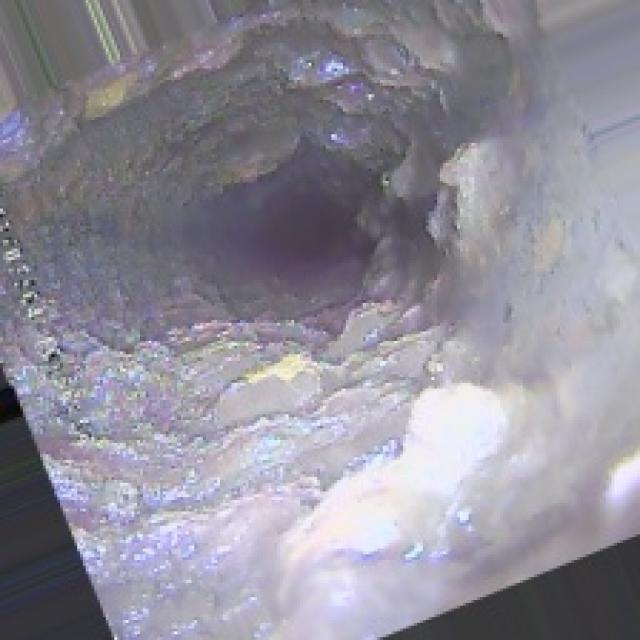encrustation: (148, 334, 592, 546), (280, 32, 554, 328)
